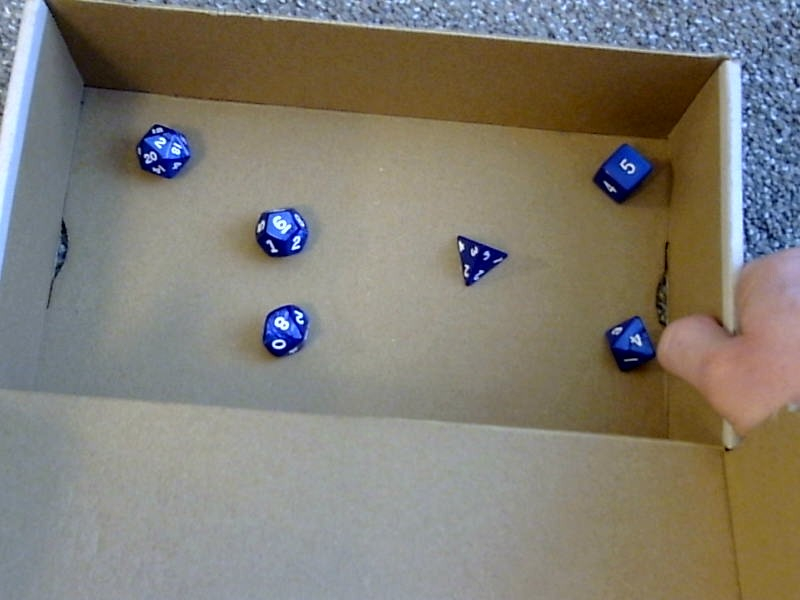d10 8: (255, 299, 309, 359)
d12 6: (250, 202, 310, 260)
d20 2: (129, 116, 192, 183)
d4 3: (452, 233, 508, 291)
d6 5: (593, 137, 653, 205)
d8 4: (600, 313, 658, 373)
